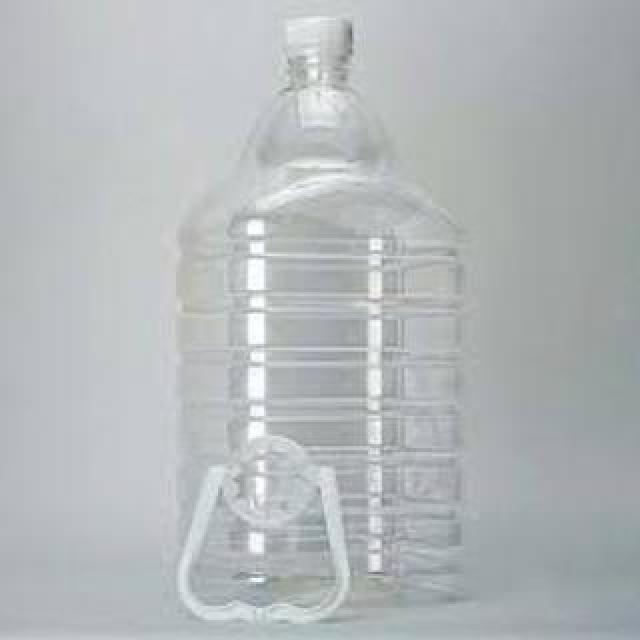Pet_Bottle: (246, 17, 404, 609)
